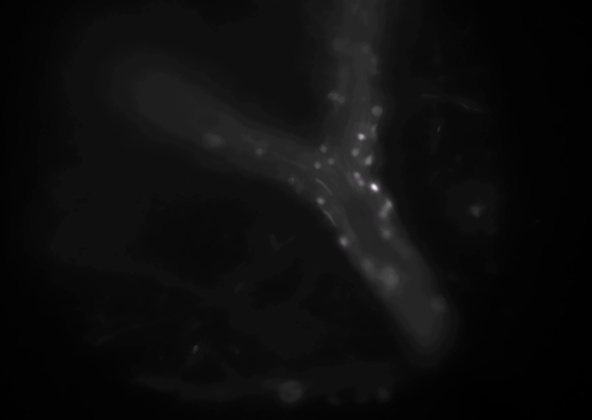cell: (367, 180, 381, 194), (353, 129, 367, 143), (371, 103, 385, 117), (348, 146, 362, 160), (362, 153, 376, 167), (316, 141, 330, 155), (311, 159, 325, 173), (325, 154, 339, 168), (327, 90, 341, 104), (350, 169, 364, 183), (335, 92, 349, 106), (353, 177, 367, 191), (337, 236, 351, 250), (382, 272, 396, 286), (380, 227, 394, 241), (381, 197, 395, 211), (377, 206, 391, 220), (378, 203, 392, 217), (312, 195, 326, 209), (360, 256, 374, 270), (284, 171, 298, 185), (253, 145, 267, 159), (207, 134, 221, 148), (430, 297, 444, 311), (358, 43, 372, 57), (366, 53, 380, 67), (334, 40, 348, 54), (367, 128, 381, 142)
